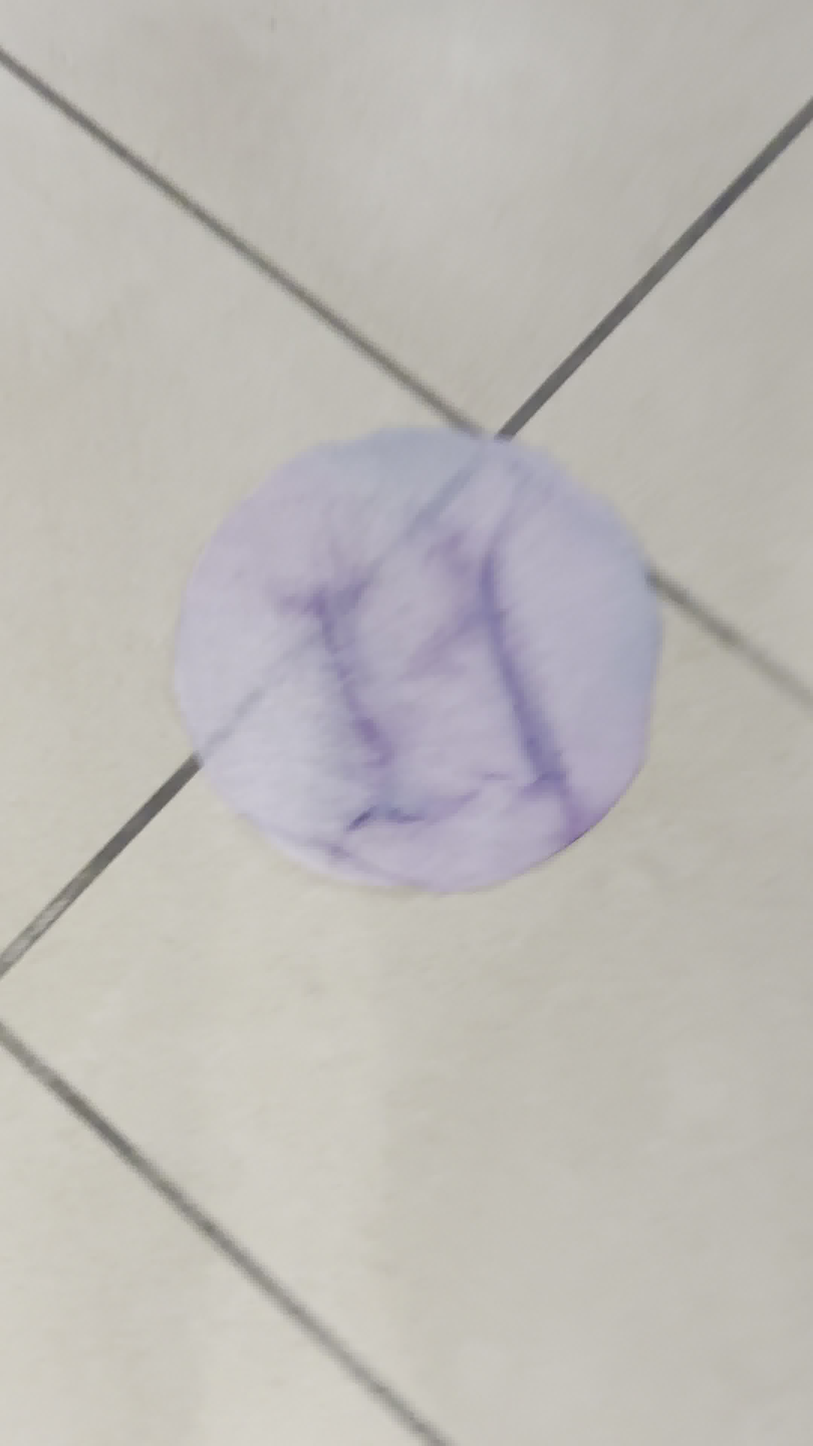Target: (169, 425, 658, 895)
